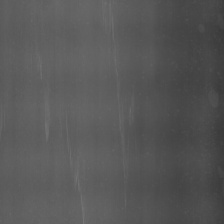silk_spot: (61, 124, 90, 223), (114, 96, 138, 205), (104, 11, 128, 82), (38, 99, 54, 137)
